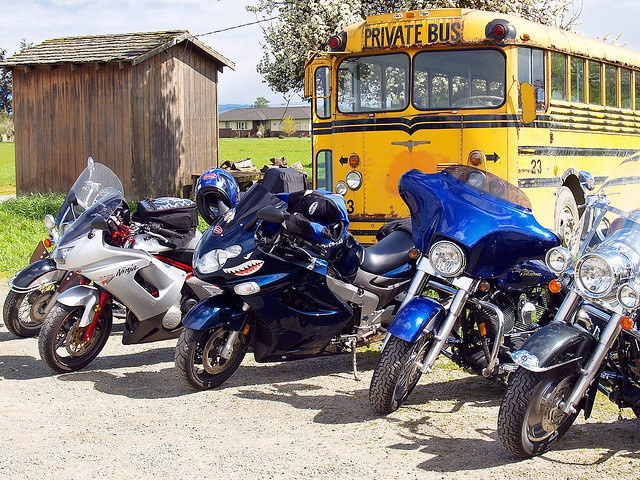non-vehicle: (171, 182, 415, 394), (372, 164, 559, 413), (497, 154, 639, 458), (1, 159, 197, 340), (41, 190, 200, 376)
